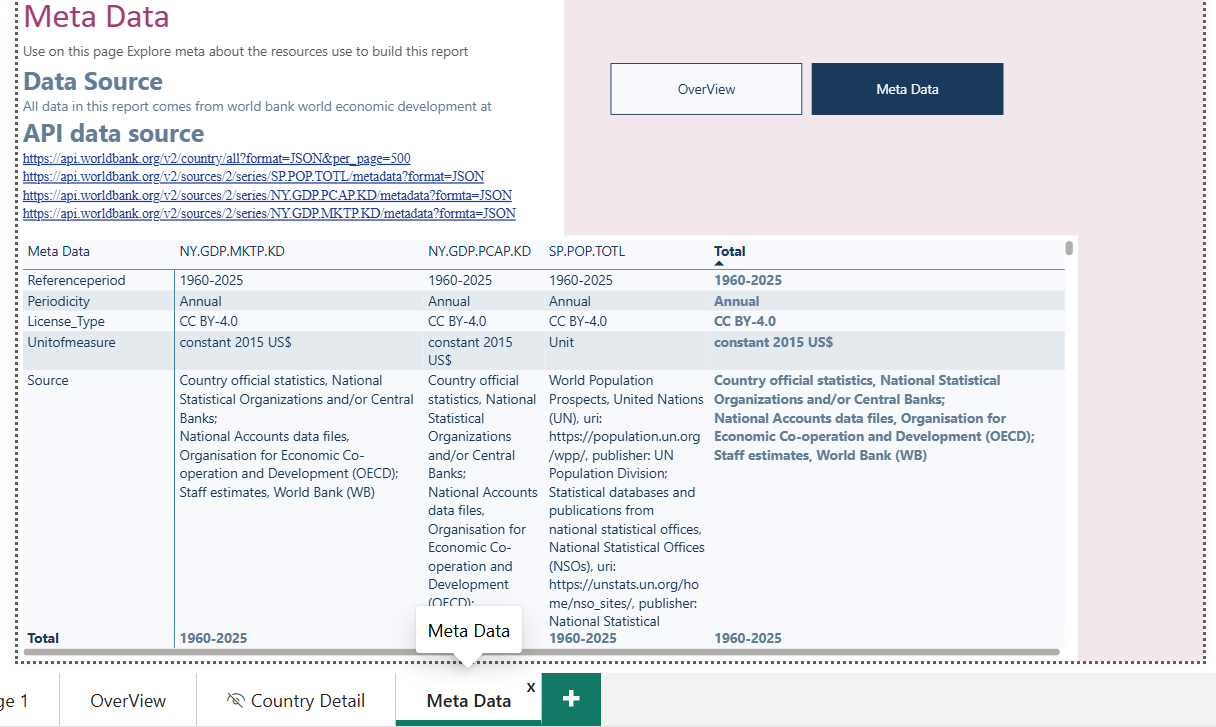

Layout of this report page (visuals, bound fields, positions):
{"tool":"powerbi","page":{"name":"Meta Data","canvas":[1280,720],"ordinal":3},"visuals":[{"type":"pivotTable","fields":{"Rows":["MetaData.Meta Data"],"Values":["Min(MetaData.Meta Data Value)"],"Columns":["MetaData.id"]},"box":[0,261,1144,459],"z":0},{"type":"textbox","title":"Meta Data","box":[0,0,589,261],"z":1000},{"type":"pageNavigator","box":[639.6,74.5,424.2,56.7],"z":1001}]}

Visuals, with their boxes on the page's 1280x720 design canvas (x1, y1, x2, y2). These are canvas units, not pixel positions in the 1216x727 screenshot, which may show the page scaled, cropped or inside an application window:
pivotTable - MetaData.Meta Data x Min(MetaData.Meta Data Value): 0:261:1144:720
"Meta Data" textbox: 0:0:589:261
pageNavigator: 640:74:1064:131
